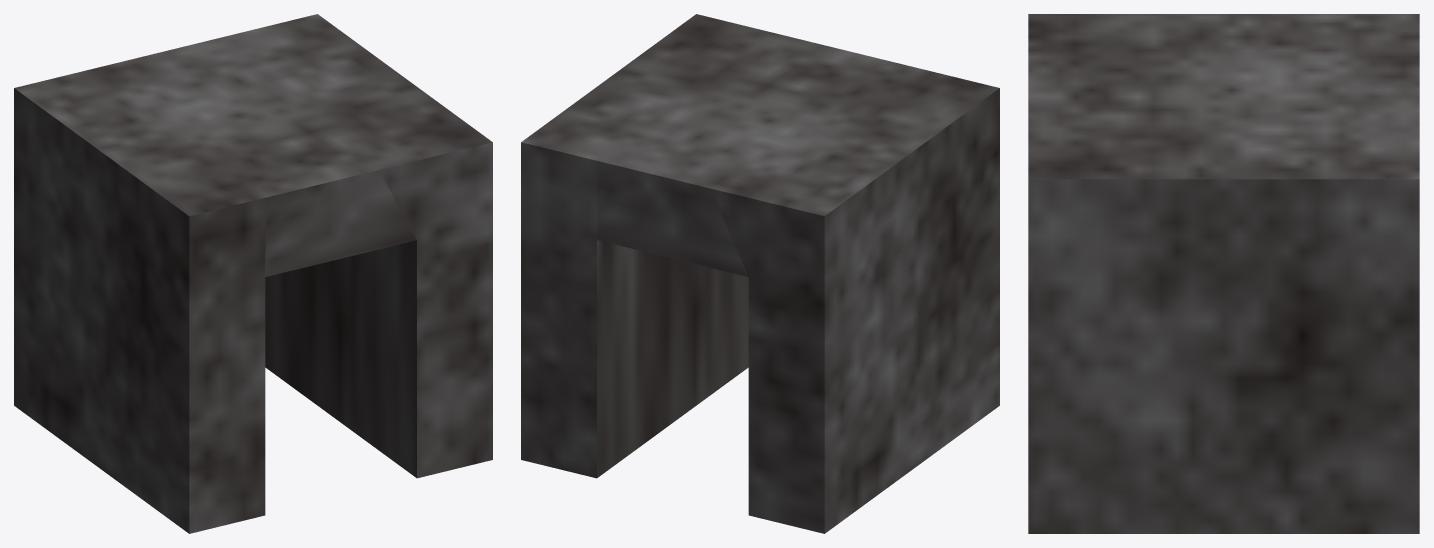
File: stageCube1.obj
3 views of the same model, side by side, from view 1: azimuth 30°, elevation 25°; view 2: azimuth 150°, elevation 25°; view 3: azimuth 270°, elevation 25° (orthographic). The views are drawn at different scales.
Visible parts, largest first — view 1: 立方体; view 2: 立方体; view 3: 立方体.
Boxes of the visible parts, box(x1,y1,x2,y2) form: 立方体: box(14, 14, 492, 533); 立方体: box(521, 14, 999, 533); 立方体: box(1028, 14, 1419, 533).
Bounding box in the file's own units: 2 × 2 × 2.
Materials: 1 (1 with a texture image).
